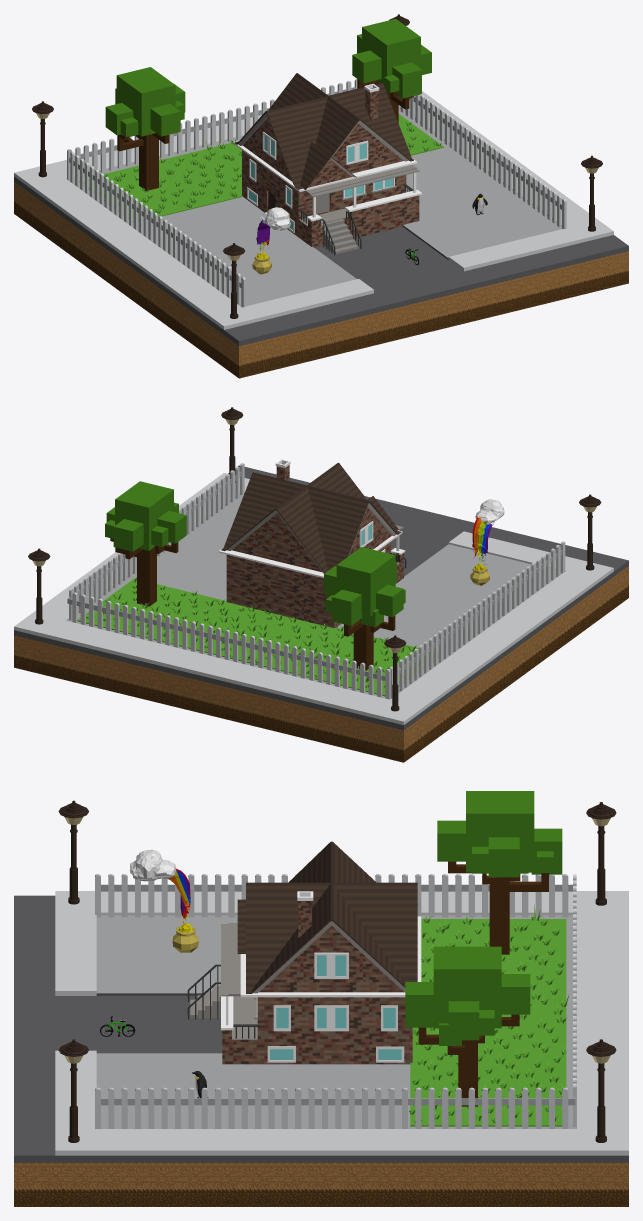
3 views of the same model, one above another, from view 1: azimuth 30°, elevation 25°; view 2: azimuth 150°, elevation 25°; view 3: azimuth 270°, elevation 25° (orthographic). The views are drawn at different scales.
Visible parts, largest first — view 1: Cube.004, Cube.117, OBJRANDOM_RAINBOW; view 2: Cube.004, Cube.117, OBJRANDOM_RAINBOW; view 3: Cube.004, Cube.117, OBJRANDOM_RAINBOW.
Part boxes in pixels (box(x1,y1,x2,y2)): Cube.004: box(14, 14, 628, 378); Cube.117: box(233, 73, 421, 255); OBJRANDOM_RAINBOW: box(252, 207, 290, 274); Cube.004: box(14, 407, 628, 762); Cube.117: box(218, 459, 406, 627); OBJRANDOM_RAINBOW: box(470, 499, 504, 585); Cube.004: box(14, 791, 628, 1206); Cube.117: box(187, 841, 421, 1064); OBJRANDOM_RAINBOW: box(129, 849, 198, 952).
Bounding box in the file's own units: 4000 × 1753 × 4000.
Materials: 37 (4 with a texture image).
